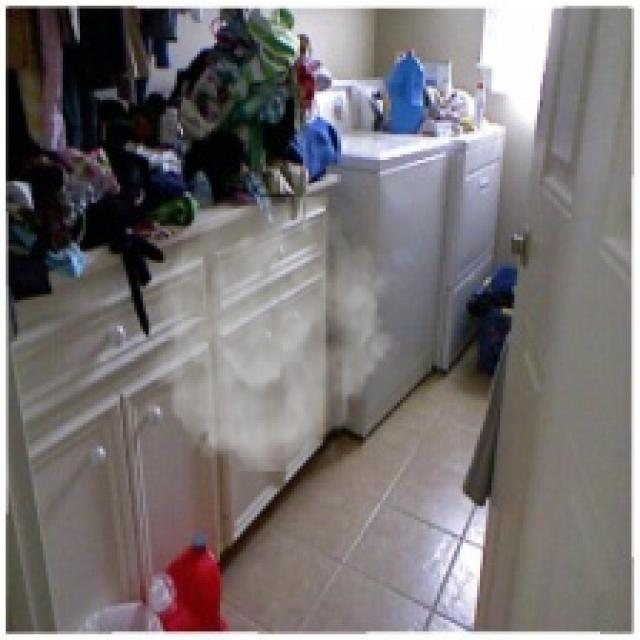smoke: (140, 197, 403, 472)
